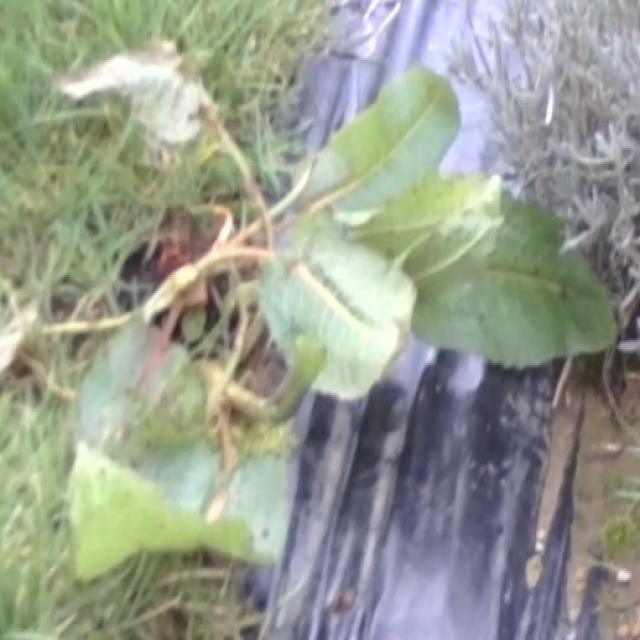organic waste: (16, 29, 640, 610)
